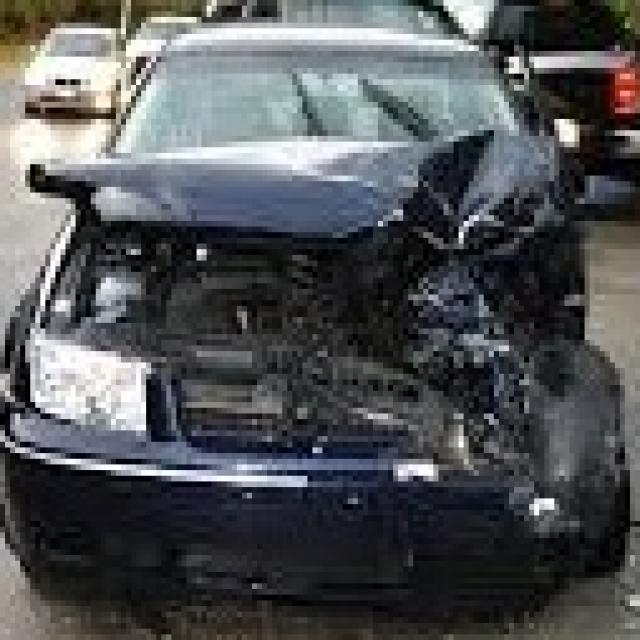severe: (16, 104, 625, 621)
